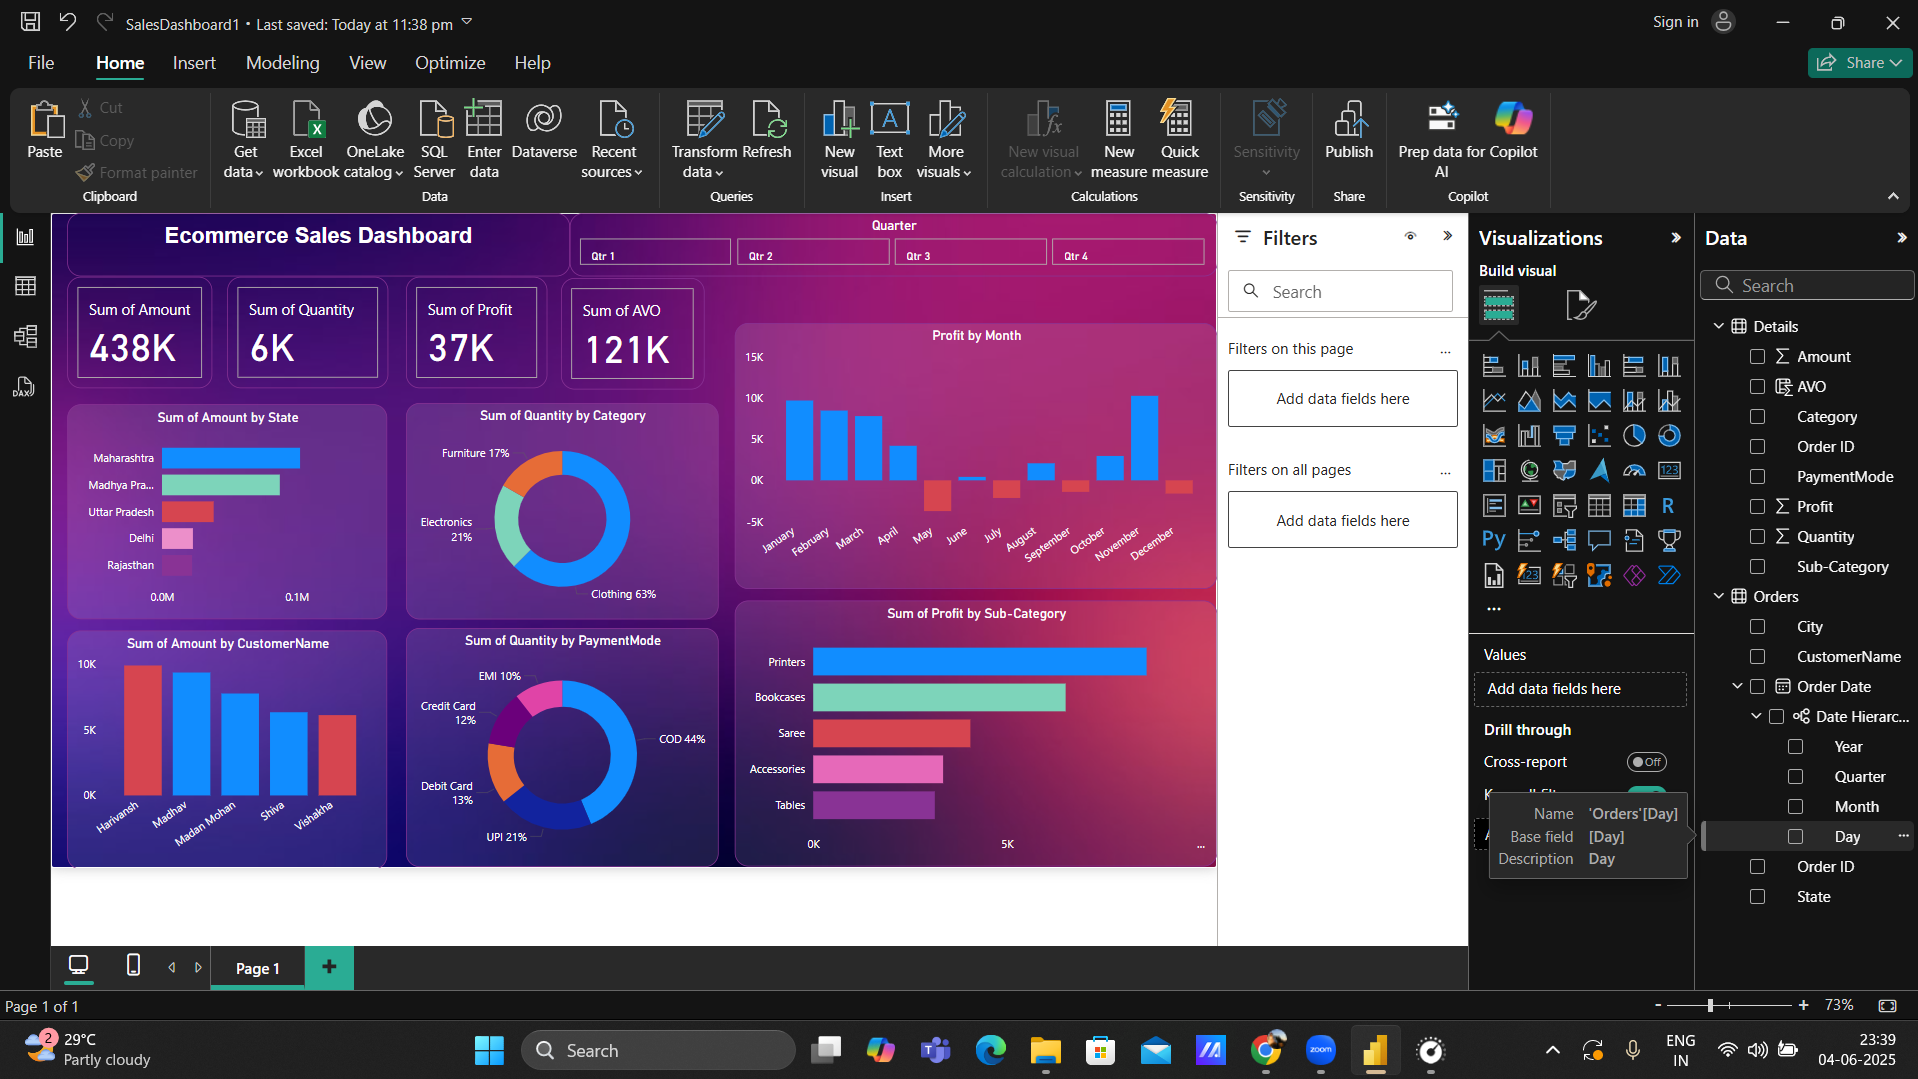

The page's visual inventory and layout, read from the dashboard file:
{"tool":"powerbi","page":{"name":"Page 1","canvas":[1280,720],"ordinal":0},"visuals":[{"type":"textbox","box":[17.8,0,551.6,70],"z":0},{"type":"columnChart","title":"Profit by Month","fields":{"Y":["Details.Profit"],"Category":["Orders.Order Date.Variation.Date Hierarchy.Month"]},"box":[750.6,163.3,529.7,292.3],"z":1000},{"type":"barChart","fields":{"Category":["Details.Sub-Category"],"Y":["Details.Profit"]},"box":[750.6,425.4,529.7,292.3],"z":2000},{"type":"donutChart","fields":{"Category":["Details.Category"],"Y":["Details.Quantity"]},"box":[389.7,208.6,343.1,237.4],"z":3000},{"type":"donutChart","fields":{"Category":["Details.PaymentMode"],"Y":["Details.Quantity"]},"box":[389.7,455.6,343.1,262.1],"z":4000},{"type":"cardVisual","fields":{"Data":["Details.Amount"]},"box":[17.8,70,159.2,122.1],"z":5000},{"type":"cardVisual","fields":{"Data":["Details.Quantity"]},"box":[193.5,70,177,122.1],"z":6000},{"type":"cardVisual","fields":{"Data":["Details.Profit"]},"box":[389.7,70,155.1,122.1],"z":7000},{"type":"cardVisual","fields":{"Data":["Details.AVO"]},"box":[559.9,71.4,157.8,122.1],"z":8000},{"type":"barChart","fields":{"Category":["Orders.State"],"Y":["Details.Amount"]},"box":[17.8,209.9,351.3,236],"z":9000},{"type":"columnChart","fields":{"Category":["Orders.CustomerName"],"Y":["Details.Amount"]},"box":[17.8,458.3,351.3,262.1],"z":10000},{"type":"advancedSlicerVisual","fields":{"Values":["Orders.Order Date.Variation.Date Hierarchy.Quarter"]},"box":[569.5,0,710.8,70],"z":11000}]}

Visuals, with their boxes on the page's 1280x720 design canvas (x1, y1, x2, y2). These are canvas units, not pixel positions in the 1918x1079 screenshot, which may show the page scaled, cropped or inside an application window:
textbox: 18/0/569/70
"Profit by Month" columnChart: 751/163/1280/456
barChart - Details.Sub-Category x Details.Profit: 751/425/1280/718
donutChart - Details.Category x Details.Quantity: 390/209/733/446
donutChart - Details.PaymentMode x Details.Quantity: 390/456/733/718
cardVisual - Details.Amount: 18/70/177/192
cardVisual - Details.Quantity: 194/70/370/192
cardVisual - Details.Profit: 390/70/545/192
cardVisual - Details.AVO: 560/71/718/194
barChart - Orders.State x Details.Amount: 18/210/369/446
columnChart - Orders.CustomerName x Details.Amount: 18/458/369/720
advancedSlicerVisual - Orders.Order Date.Variation.Date Hierarchy.Quarter: 570/0/1280/70
